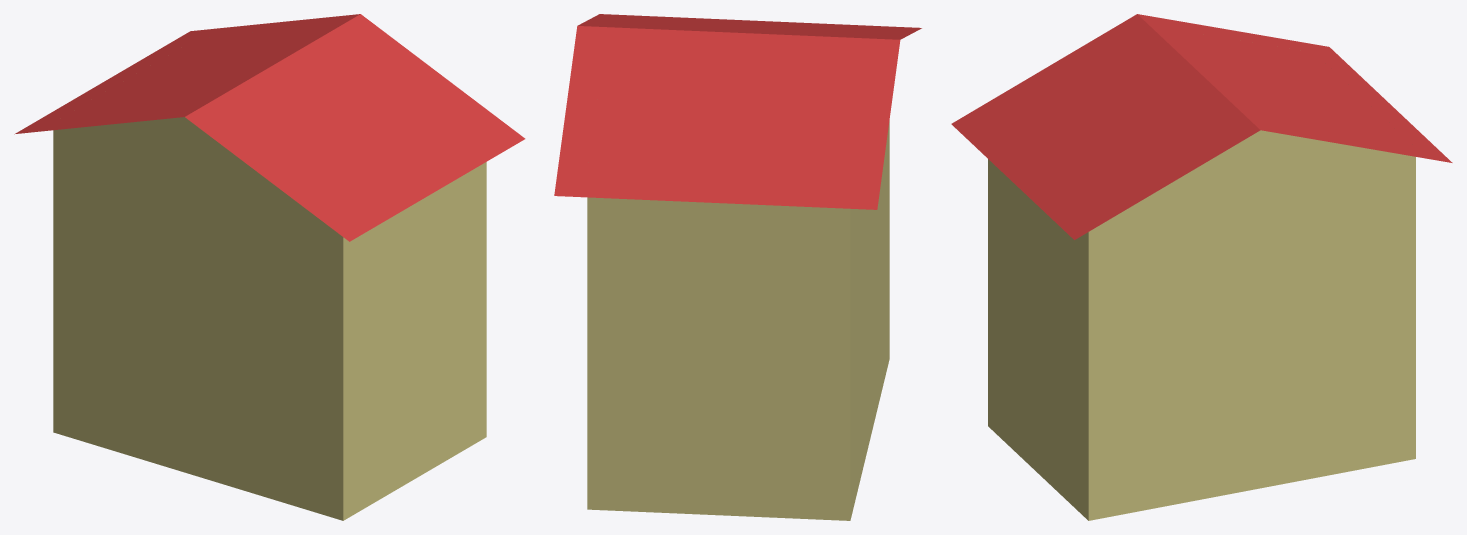
3 views of the same model, side by side, from view 1: azimuth 30°, elevation 25°; view 2: azimuth 150°, elevation 25°; view 3: azimuth 270°, elevation 25° (orthographic). The views are drawn at different scales.
Size of the model in its own units: 7.96 by 8.98 by 7.32.
